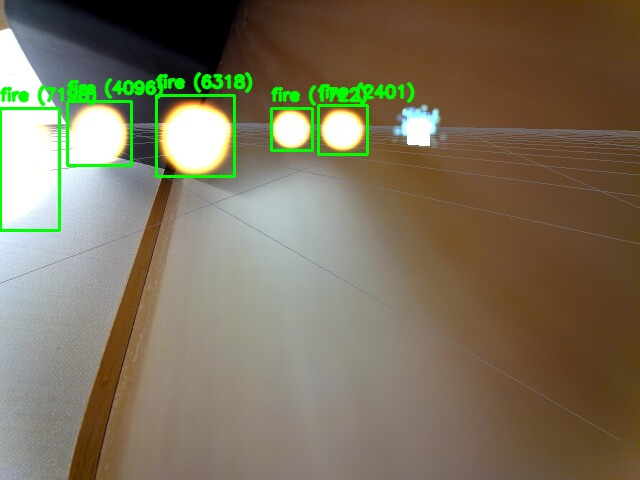fire: (0, 108, 59, 230), (156, 95, 234, 176), (67, 101, 131, 165), (318, 105, 367, 154), (271, 108, 312, 150)
